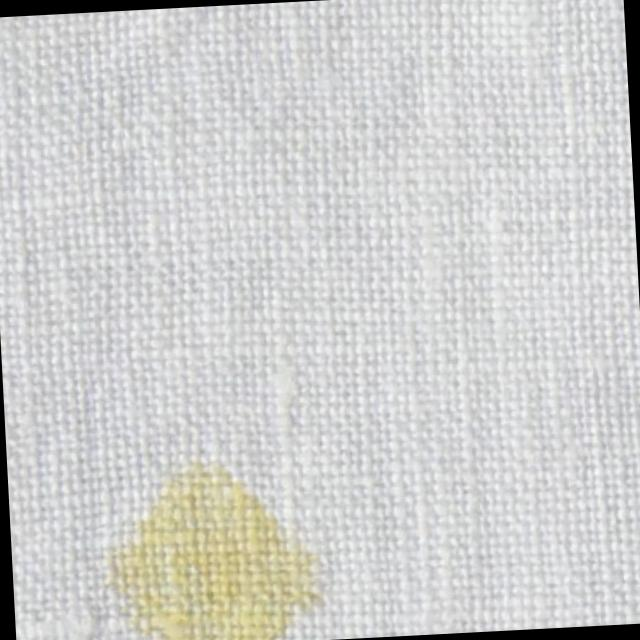Stain: (104, 454, 335, 640)
